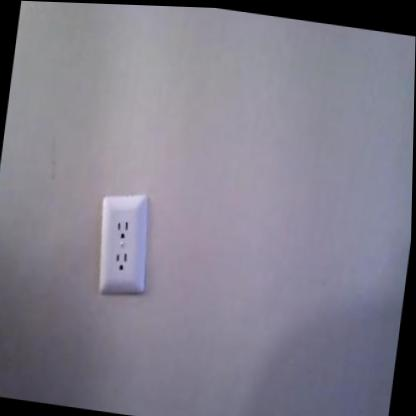OUTLET: (88, 189, 160, 301)
